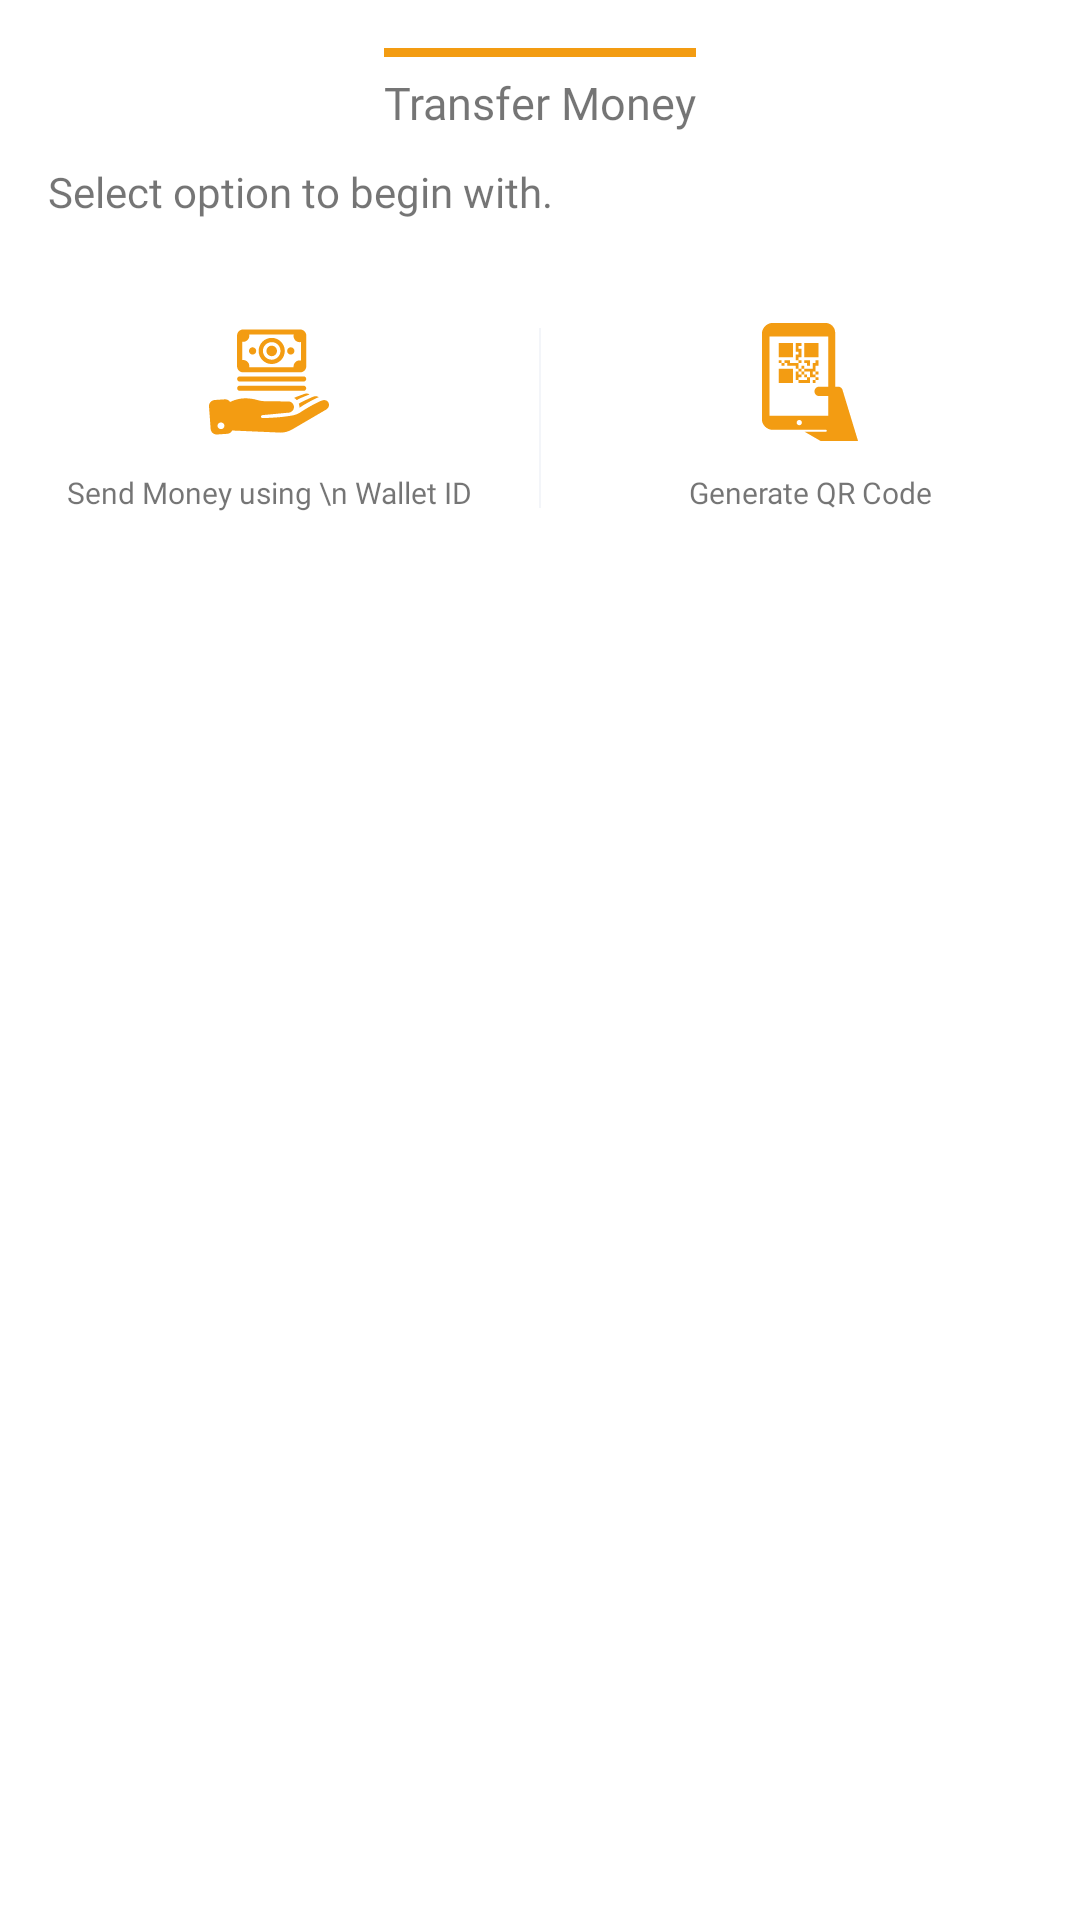

Point at icon controls on the screen. Image size 1080×1920, points as (x,y).
send ref: (269,382)
